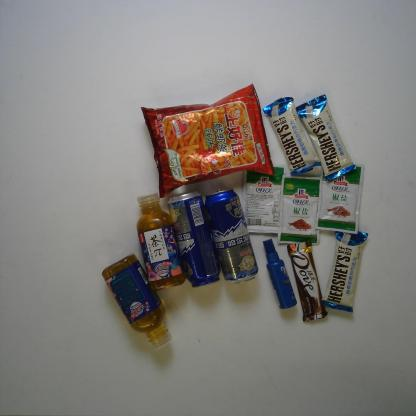Alcohol: (198, 185, 260, 287), (164, 189, 221, 289)
Chocolate: (291, 92, 358, 184), (260, 92, 326, 178), (321, 225, 370, 314), (282, 237, 331, 324)
Drink: (98, 252, 174, 354), (130, 188, 183, 291)
Personal Hygiene: (260, 235, 297, 312)
Puffed Food: (134, 80, 276, 201)
Seasoner: (314, 156, 366, 237), (276, 168, 321, 246), (241, 161, 286, 236)
